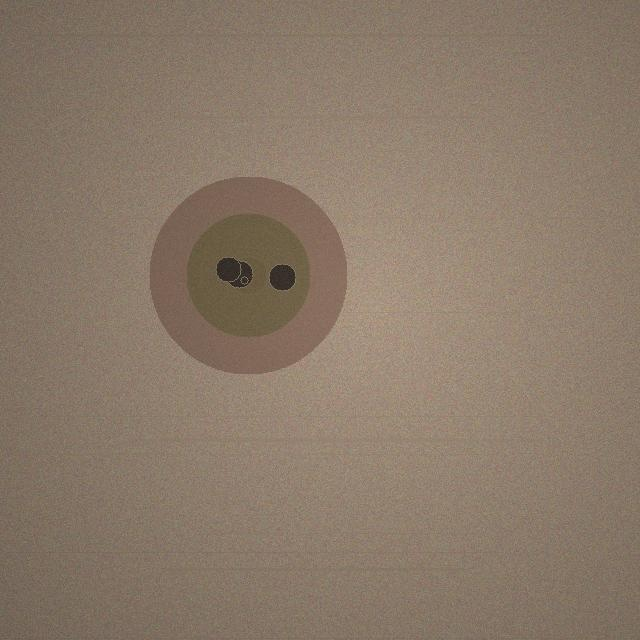shrinkage: (149, 176, 347, 374)
